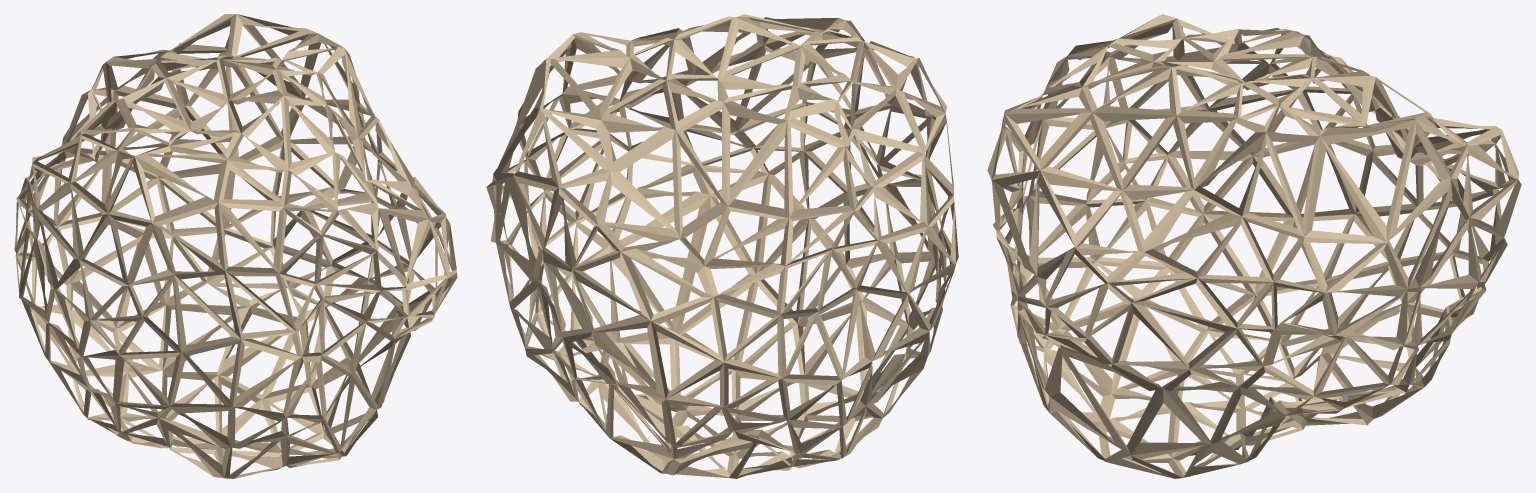
Rendered from Tumbleweed.fbx.
The picture shows the model from 3 angles, left to right: view 1: azimuth 30°, elevation 25°; view 2: azimuth 150°, elevation 25°; view 3: azimuth 270°, elevation 25°; orthographic projection. The views are drawn at different scales.
Visible parts, largest first — view 1: Tumbleweed6; view 2: Tumbleweed6; view 3: Tumbleweed6.
Part boxes in pixels (x1=…): Tumbleweed6: x1=14, y1=14, x2=457, y2=478; Tumbleweed6: x1=486, y1=14, x2=958, y2=478; Tumbleweed6: x1=987, y1=14, x2=1521, y2=478.
Size of the model in its own units: 56.22 by 56.51 by 68.56.
